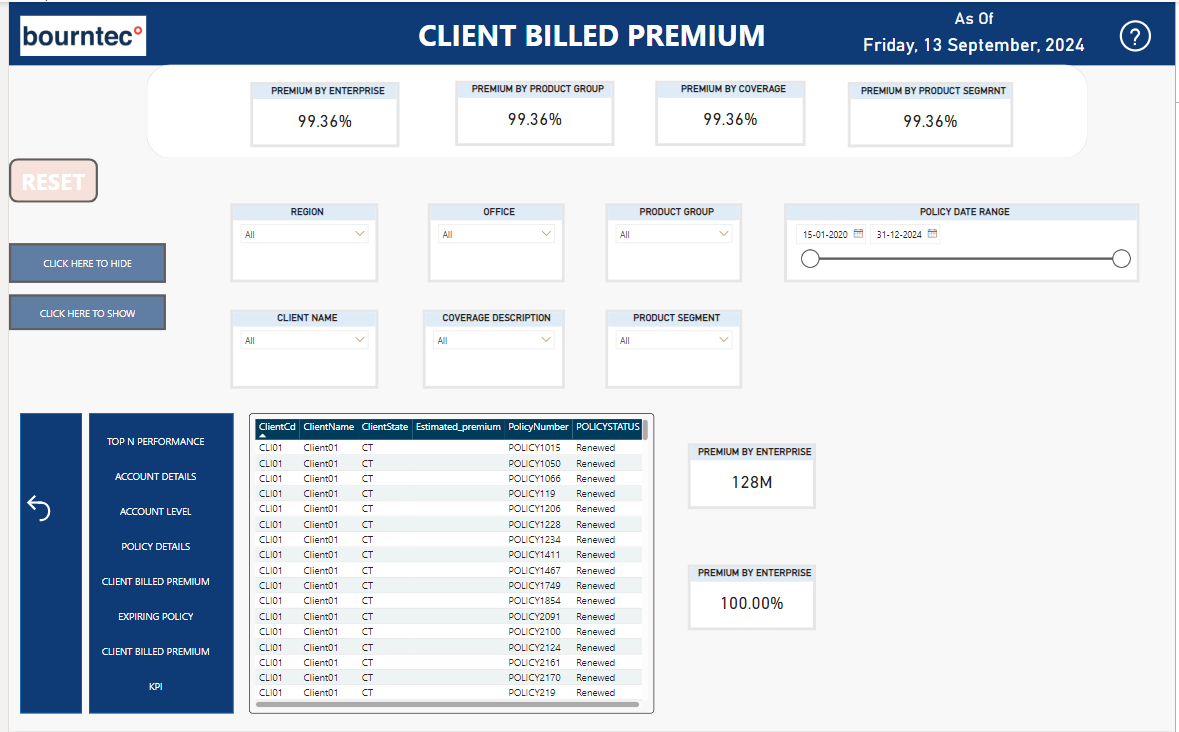

This screenshot's page, from the dashboard's own definition file:
{"tool":"powerbi","page":{"name":"CLIENT BILLED PREMIUM","canvas":[1600,1000],"ordinal":4},"visuals":[{"type":"shape","box":[0,0,1600,87],"z":0},{"type":"shape","box":[110.2,564.4,198.3,411.9],"z":0,"group":"g1"},{"type":"shape","box":[188.1,86.4,1291.5,128.8],"z":1000},{"type":"pageNavigator","box":[116.7,584,169.5,376.3],"z":1000,"group":"g1"},{"type":"card","title":"PREMIUM BY ENTERPRISE","fields":{"Values":["Policy Details.PctBilledPremiumByEnterprise"]},"box":[330.5,110.2,205.1,89.8],"z":2000},{"type":"card","title":"PREMIUM BY PRODUCT GROUP","fields":{"Values":["Policy Details.PctBilledPremiumByProductGroup"]},"box":[611.9,108.5,218.6,89.8],"z":3000},{"type":"card","title":"PREMIUM BY COVERAGE","fields":{"Values":["Policy Details.PctBilledPremiumByCoverage"]},"box":[886.4,108.5,206.8,89.8],"z":4000},{"type":"card","title":"PREMIUM BY PRODUCT SEGMRNT","fields":{"Values":["Policy Details.PctBilledPremiumByProductSegment"]},"box":[1150.8,110.2,227.1,89.8],"z":5000},{"type":"slicer","title":"REGION","fields":{"Values":["Policy Details.Region"]},"box":[303.4,276.3,203.4,108.5],"z":6000},{"type":"slicer","title":"OFFICE","fields":{"Values":["Policy Details.Office"]},"box":[574.6,276.3,188.1,108.5],"z":7000},{"type":"slicer","title":"PRODUCT GROUP","fields":{"Values":["Policy Details.Product group"]},"box":[818.6,276.3,188.1,108.5],"z":8000},{"type":"slicer","title":"PRODUCT SEGMENT","fields":{"Values":["Policy Details.Product segment"]},"box":[818.6,422,188.1,108.5],"z":9000},{"type":"slicer","title":"CLIENT NAME","fields":{"Values":["Policy Details.ClientName"]},"box":[303.4,422,203.4,108.5],"z":10000},{"type":"slicer","title":"COVERAGE DESCRIPTION","fields":{"Values":["Policy Details.Coverage Description "]},"box":[567.8,422,194.9,108.5],"z":11000},{"type":"tableEx","fields":{"Values":["Policy Details.ClientCd","Policy Details.ClientName","Policy Details.ClientState","Policy Details.Estimated_premium","Policy Details.PolicyNumber","Policy Details.POLICYSTATUS"]},"box":[330.1,564.7,556.3,412.2],"z":12000},{"type":"actionButton","box":[0,215.3,122,61],"z":13000},{"type":"card","title":"PREMIUM BY ENTERPRISE","fields":{"Values":["Policy Details.TotalBilledPremiumSelectedProductGroup"]},"box":[931.6,604.9,175.9,90.5],"z":14000},{"type":"card","title":"PREMIUM BY ENTERPRISE","fields":{"Values":["Policy Details.PctBilledPremiumBySelectedProductGroup"]},"box":[931.6,772.5,175.9,90.5],"z":15000},{"type":"slicer","title":"POLICY DATE RANGE","fields":{"Values":["Policy Details.POLEFFDATE"]},"box":[1062.7,276.3,488.1,108.5],"z":16000},{"type":"shape","box":[15.3,564.4,84.7,411.9],"z":17000},{"type":"actionButton","box":[16.9,671.2,83.1,47.5],"z":19000},{"type":"group","id":"g1","title":"Group 1","box":[110.2,564.4,198.3,411.9],"z":20000},{"type":"actionButton","box":[0,330.5,215.3,54.2],"z":21000},{"type":"actionButton","box":[0,401.7,215.3,49.2],"z":22000},{"type":"image","box":[15.1,18.4,172.6,55.3],"z":23000},{"type":"card","title":"As Of","fields":{"Values":["Min(REFRESH_DATE.DATE)"]},"box":[1107.6,8.4,432.3,70.4],"z":24000},{"type":"actionButton","box":[1518.1,18.4,57,55.3],"z":25000}]}

Visuals, with their boxes in screenshot pixels (x1, y1, x2, y2), scaled from the page's 1600x1000 canvas onto the 1179x732 screenshot:
shape: box(0, 0, 1178, 64)
shape: box(81, 413, 227, 715)
shape: box(139, 63, 1090, 158)
pageNavigator: box(86, 427, 211, 703)
"PREMIUM BY ENTERPRISE" card: box(244, 81, 395, 146)
"PREMIUM BY PRODUCT GROUP" card: box(451, 79, 612, 145)
"PREMIUM BY COVERAGE" card: box(653, 79, 806, 145)
"PREMIUM BY PRODUCT SEGMRNT" card: box(848, 81, 1015, 146)
"REGION" slicer: box(224, 202, 373, 282)
"OFFICE" slicer: box(423, 202, 562, 282)
"PRODUCT GROUP" slicer: box(603, 202, 742, 282)
"PRODUCT SEGMENT" slicer: box(603, 309, 742, 388)
"CLIENT NAME" slicer: box(224, 309, 373, 388)
"COVERAGE DESCRIPTION" slicer: box(418, 309, 562, 388)
tableEx - Policy Details.ClientCd x Policy Details.ClientName: box(243, 413, 653, 715)
actionButton: box(0, 158, 90, 202)
"PREMIUM BY ENTERPRISE" card: box(686, 443, 816, 509)
"PREMIUM BY ENTERPRISE" card: box(686, 565, 816, 632)
"POLICY DATE RANGE" slicer: box(783, 202, 1143, 282)
shape: box(11, 413, 74, 715)
actionButton: box(12, 491, 74, 526)
"Group 1" group: box(81, 413, 227, 715)
actionButton: box(0, 242, 159, 282)
actionButton: box(0, 294, 159, 330)
image: box(11, 13, 138, 54)
"As Of" card: box(816, 6, 1135, 58)
actionButton: box(1119, 13, 1161, 54)
